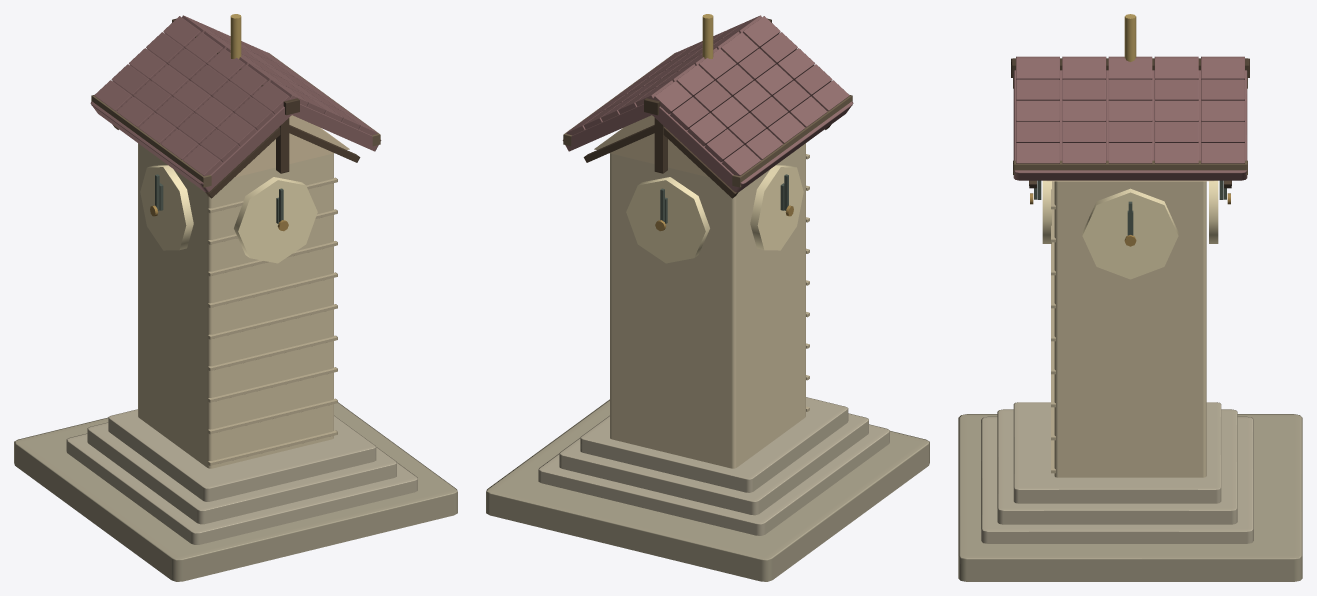
Rendered from clock-1.glb.
3 views of the same model, side by side, from view 1: azimuth 30°, elevation 25°; view 2: azimuth 150°, elevation 25°; view 3: azimuth 270°, elevation 25° (orthographic). The views are drawn at different scales.
Visible parts, largest first — view 1: clock-1-0; view 2: clock-1-0; view 3: clock-1-0.
Part boxes in pixels (bbox=[...]): clock-1-0: bbox=[14, 14, 457, 581]; clock-1-0: bbox=[486, 14, 929, 581]; clock-1-0: bbox=[958, 14, 1302, 581].
Bounding box in the file's own units: 2.65 × 4.19 × 2.65.
